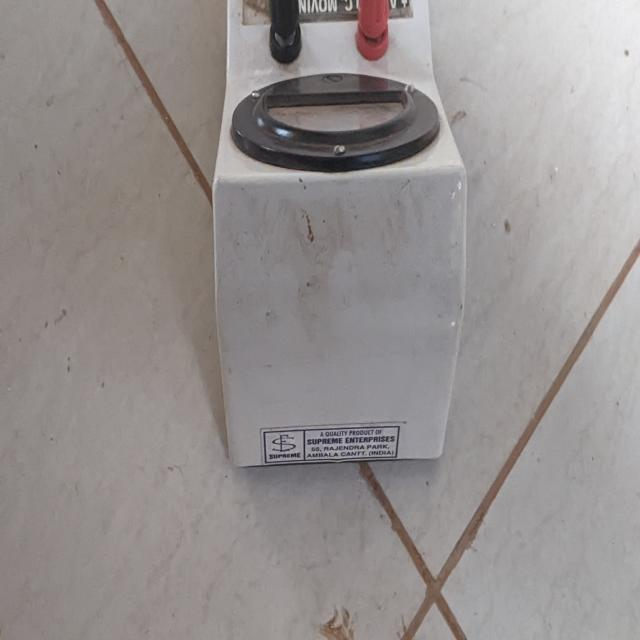Ammeter Analog: (212, 4, 480, 483)
